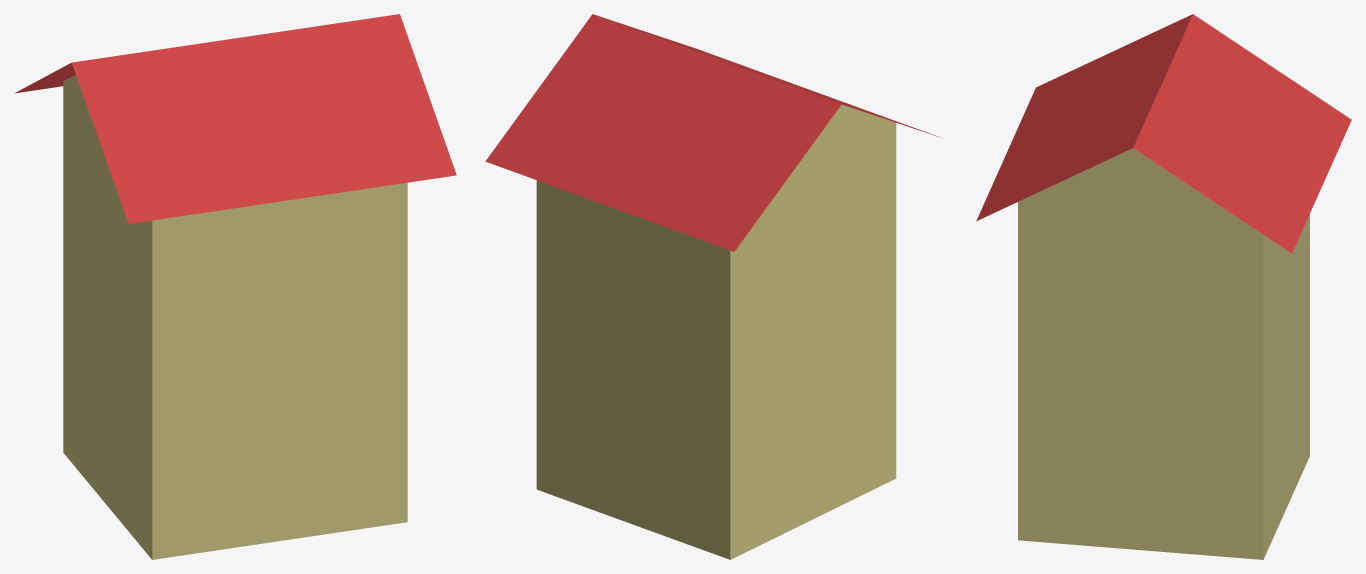
3 views of the same model, side by side, from view 1: azimuth 30°, elevation 25°; view 2: azimuth 150°, elevation 25°; view 3: azimuth 270°, elevation 25° (orthographic). The views are drawn at different scales.
Bounding box in the file's own units: 5.27 × 5.25 × 6.43.
